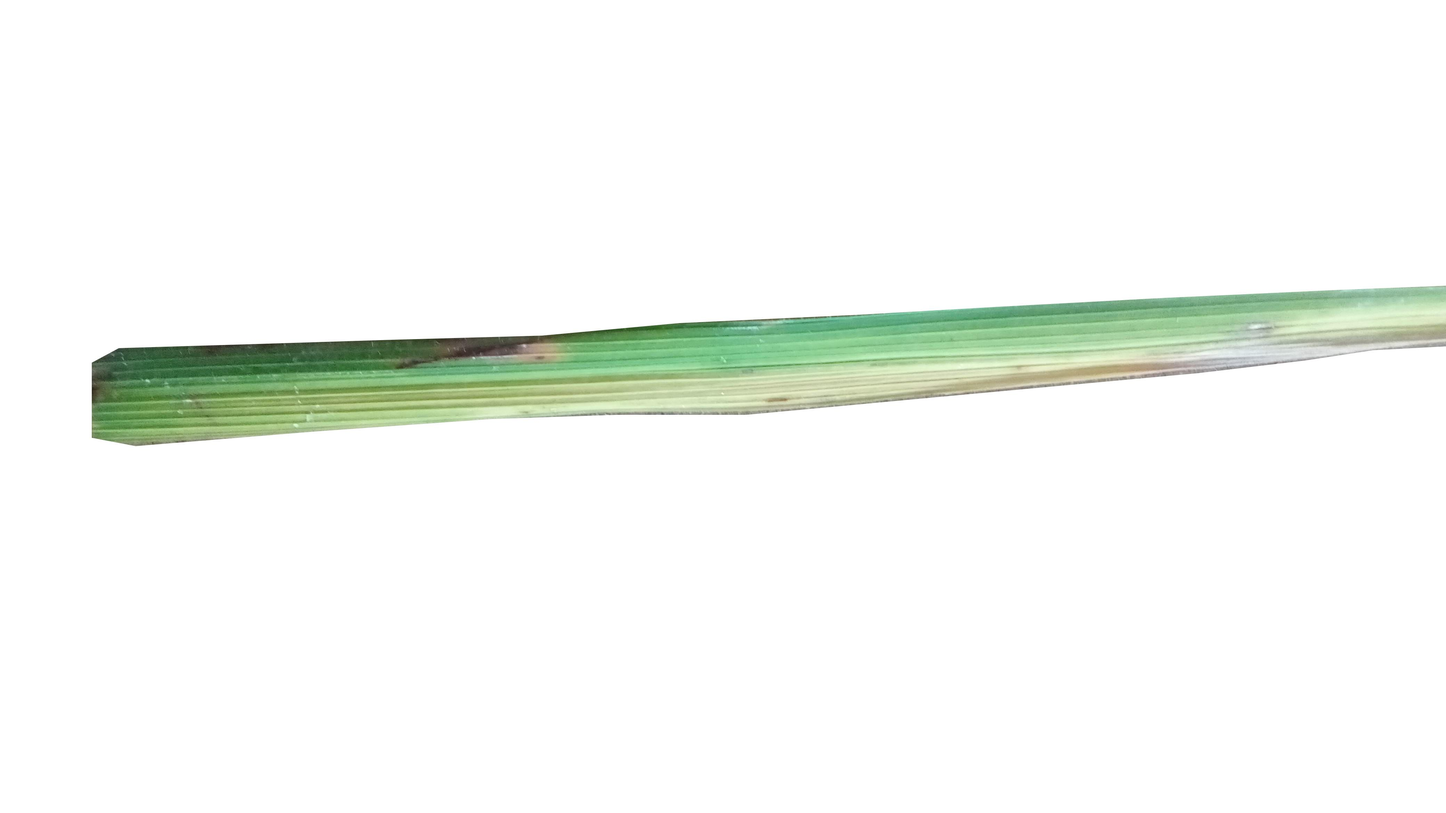Rice blast: (377, 332, 631, 377)
